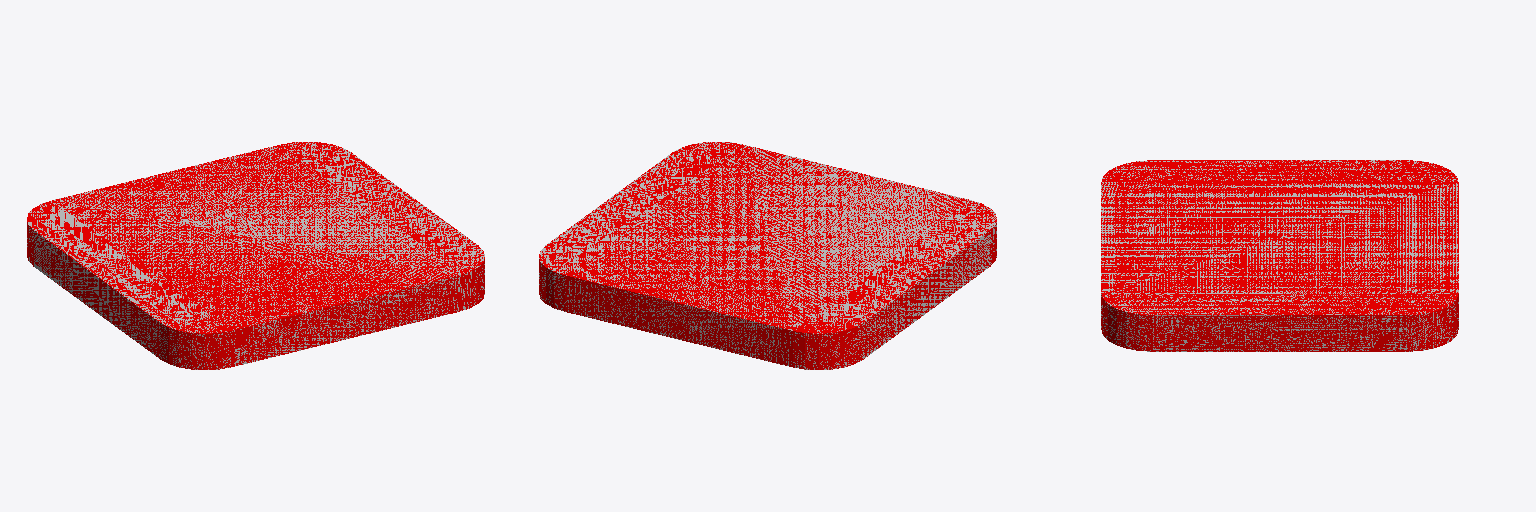
Rendered from original-9.obj.
3 renders of one model, left to right at view 1: azimuth 30°, elevation 25°; view 2: azimuth 150°, elevation 25°; view 3: azimuth 270°, elevation 25°, orthographic.
Parts seen in each view (by area): view 1: mesh8/mesh8-geometry#mesh8-geometry; view 2: mesh8/mesh8-geometry#mesh8-geometry; view 3: mesh8/mesh8-geometry#mesh8-geometry.
Part boxes in pixels (bbox=[...]): mesh8/mesh8-geometry#mesh8-geometry: bbox=[27, 142, 484, 369]; mesh8/mesh8-geometry#mesh8-geometry: bbox=[539, 142, 996, 369]; mesh8/mesh8-geometry#mesh8-geometry: bbox=[1101, 160, 1458, 351].
Size of the model in its own units: 0.0583 by 0.0064 by 0.0568.